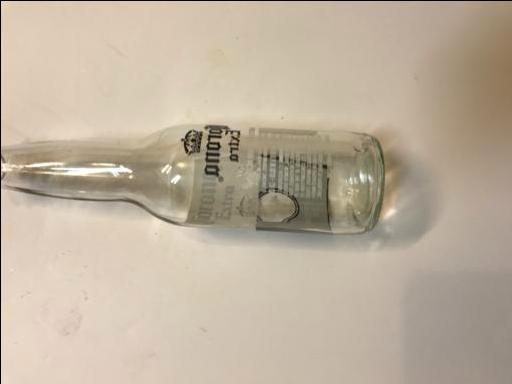alcohol: (0, 124, 386, 236)
glass: (0, 124, 386, 236)
sodocalcique: (0, 124, 386, 236)
